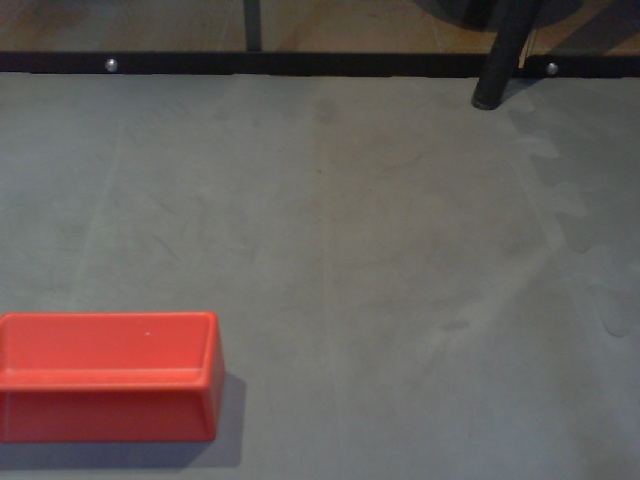RedSample: (1, 309, 224, 446)
